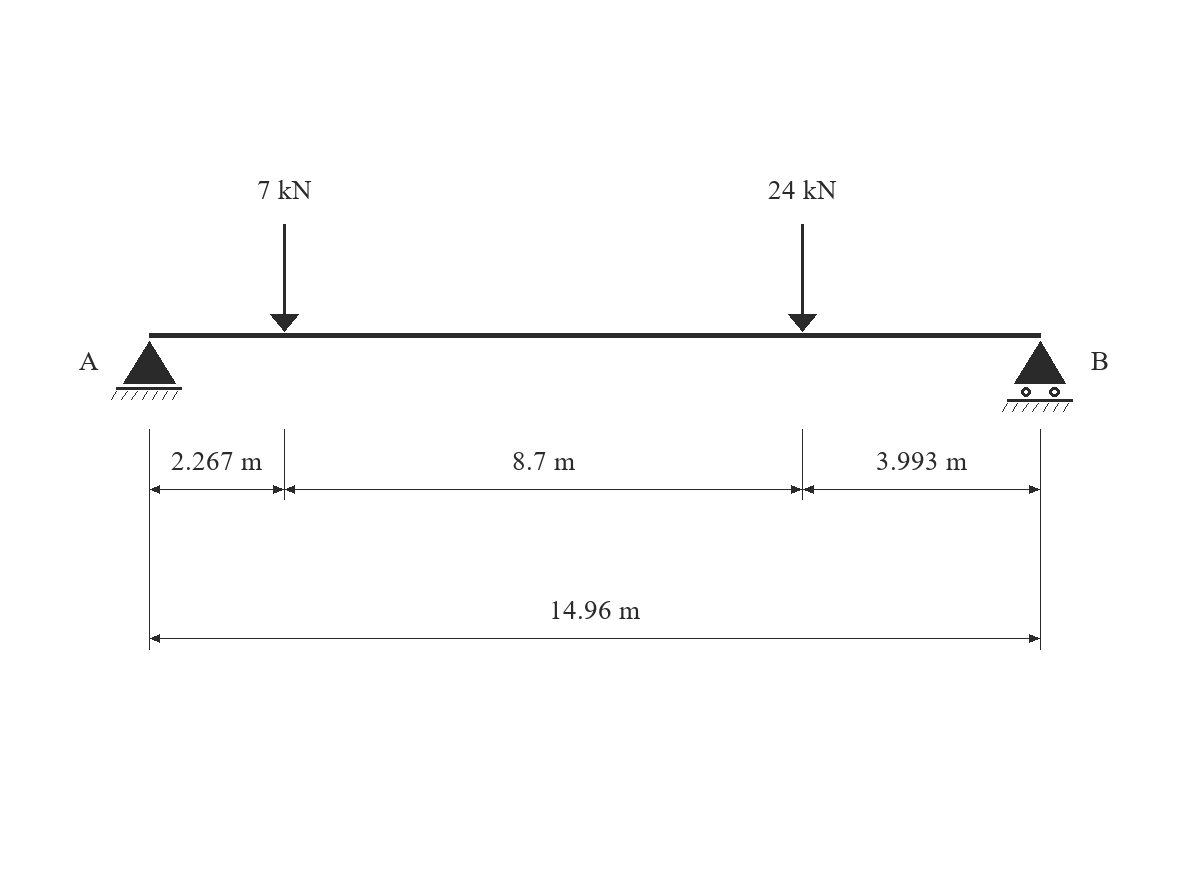pin_support: (111, 341, 182, 400)
point_load: (270, 224, 299, 332), (788, 224, 817, 332)
roller_support: (1002, 341, 1073, 412)
